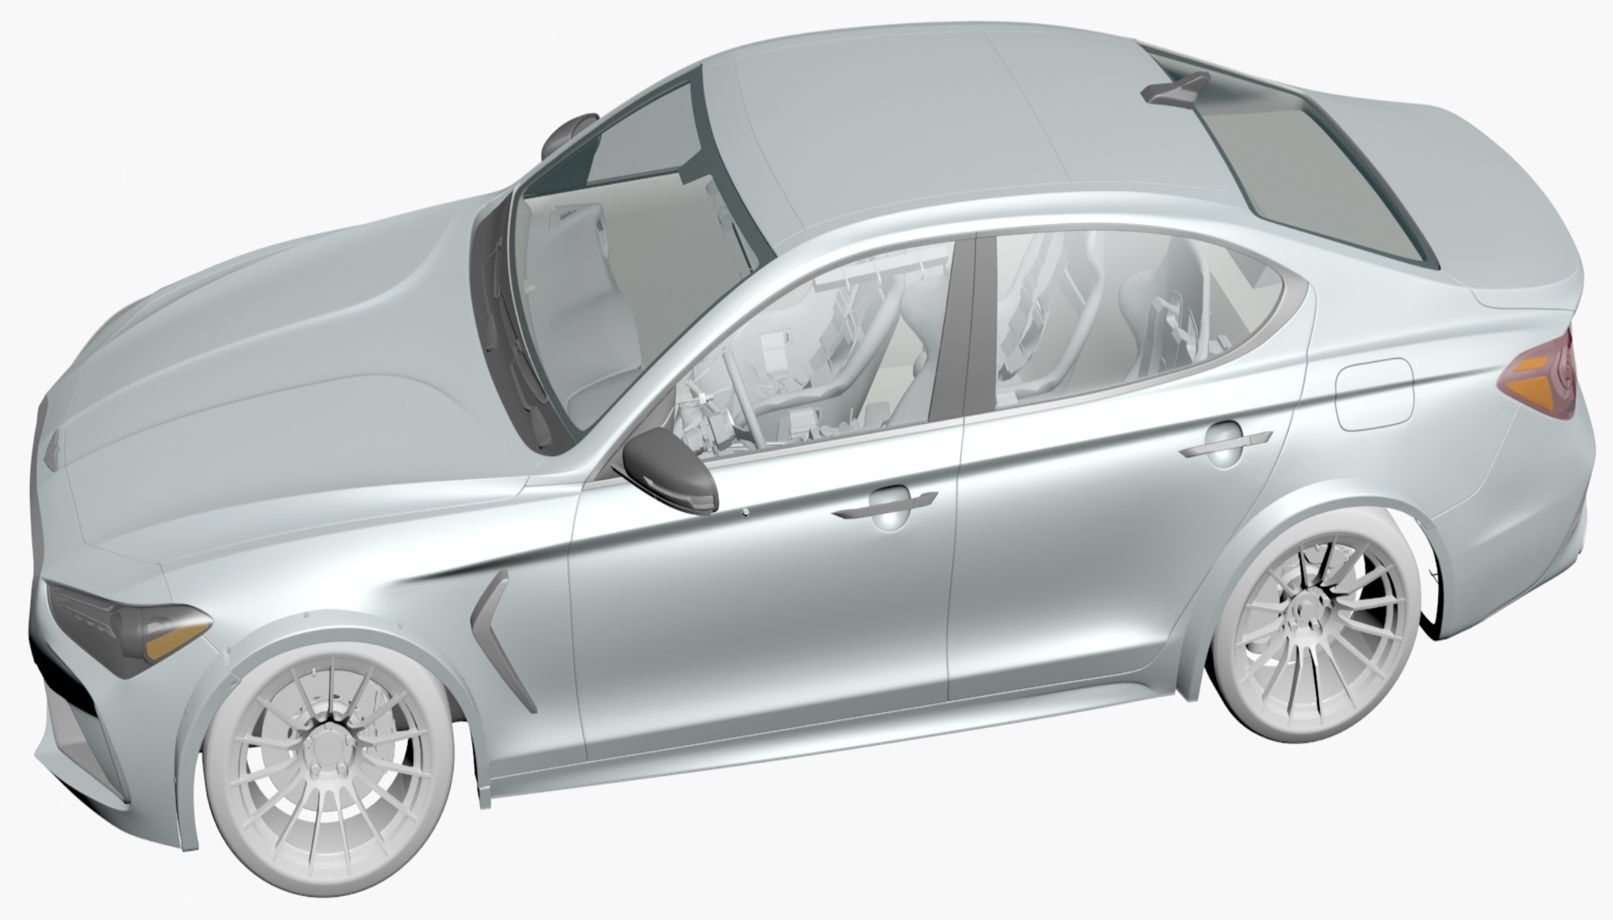hatch: (1331, 352, 1419, 435)
